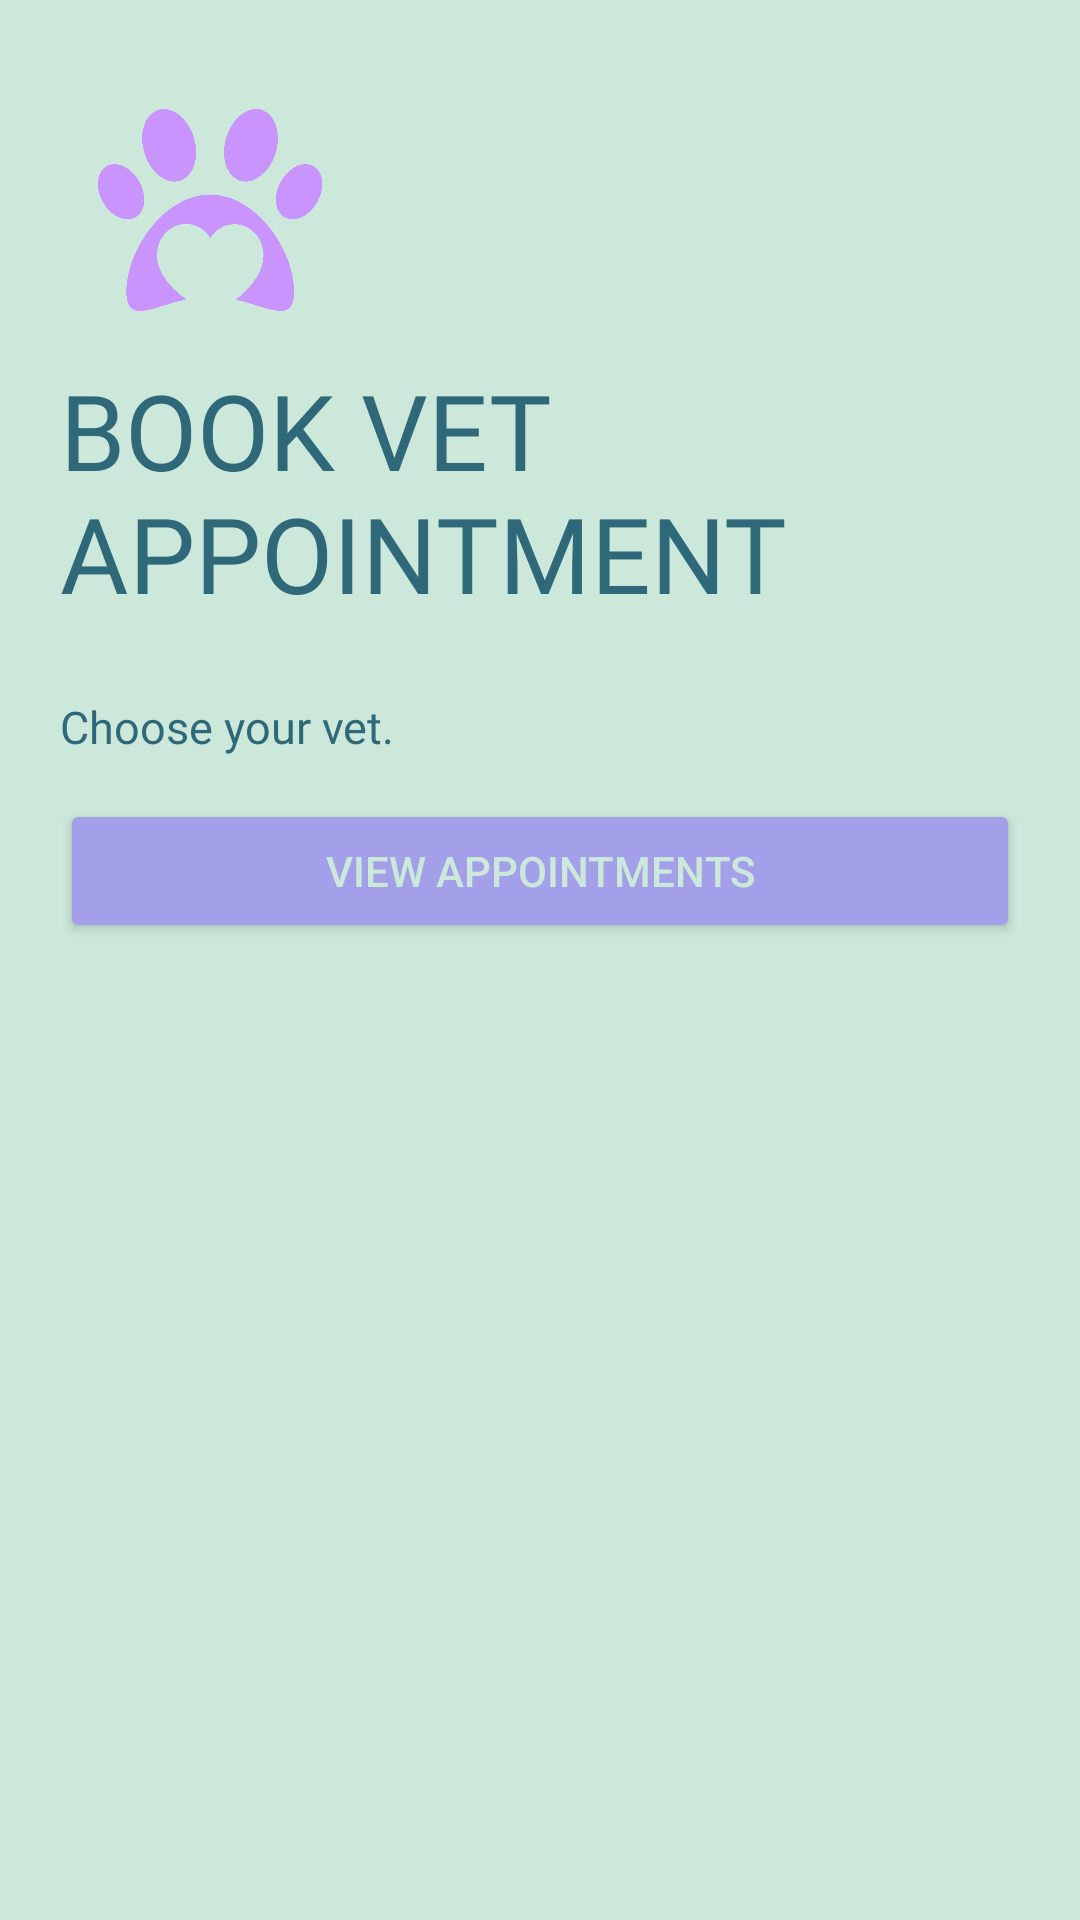

Where to tap for icons on this 1080 × 1920 app screen, as (x,y):
paw: (210,210)
